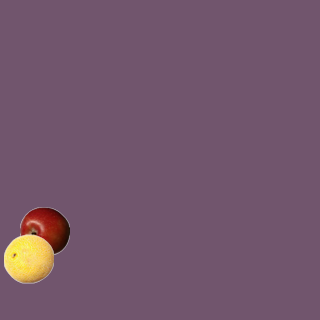Apple Braeburn: (19, 206, 69, 256)
Cantaloupe 1: (3, 233, 53, 283)
